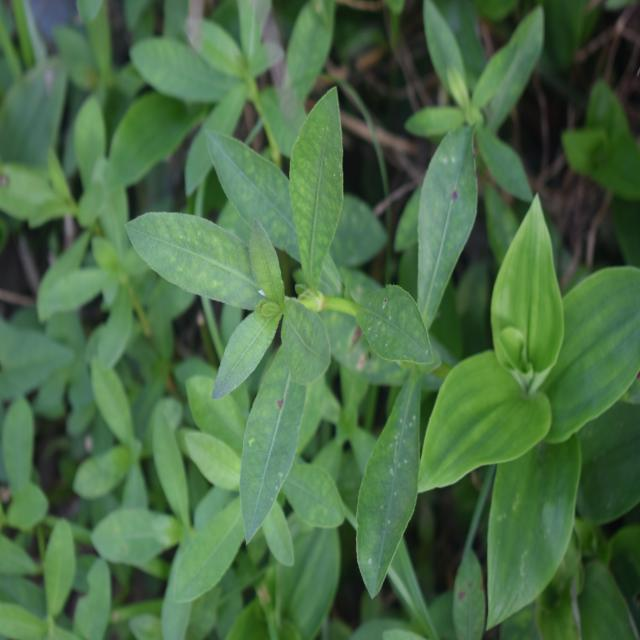Alligatorweed: (162, 80, 410, 540)
